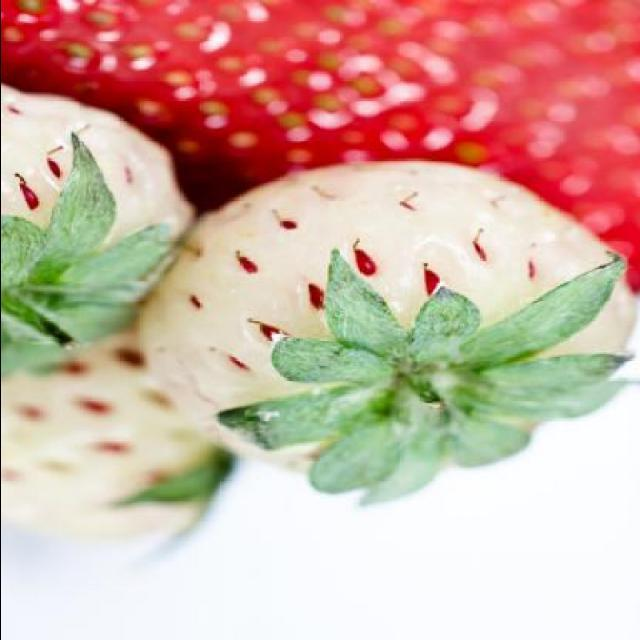Strawberry: (1, 0, 634, 292), (132, 160, 640, 502), (1, 84, 198, 362), (2, 346, 235, 548)
